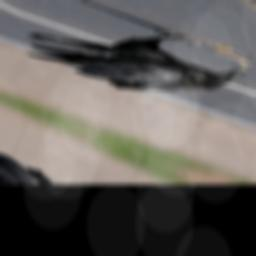Crow: (14, 0, 253, 124)
